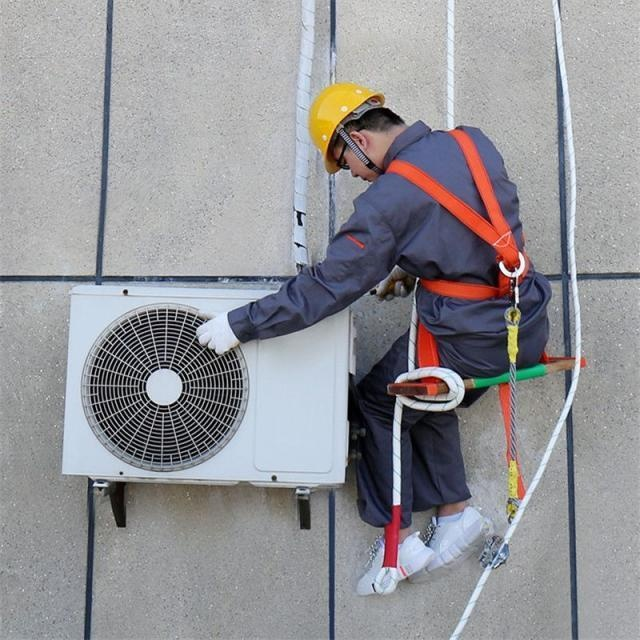Arnes_seguridad: (373, 123, 540, 312)
